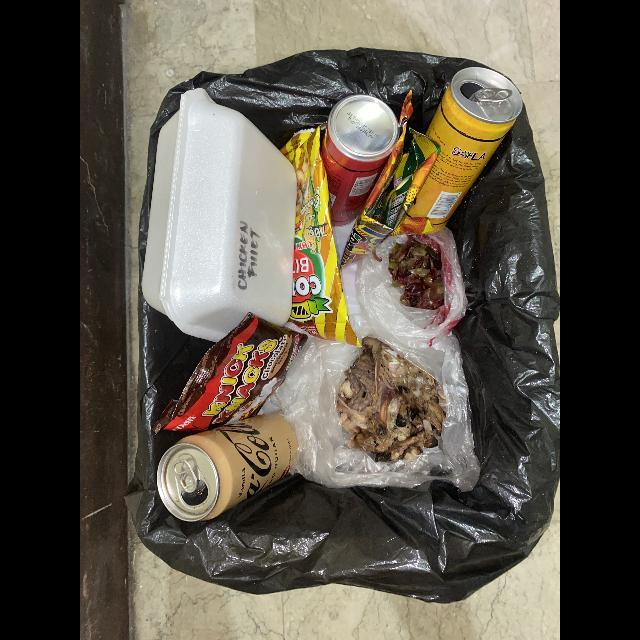biowaste: (336, 337, 448, 464), (388, 235, 444, 310)
metal: (407, 67, 523, 234), (156, 414, 298, 523), (321, 95, 403, 227)
plastic: (270, 316, 480, 493), (354, 227, 468, 347)
styrofoam: (142, 88, 297, 344)
wrapper: (152, 313, 307, 434), (341, 90, 440, 267), (281, 127, 360, 347)
